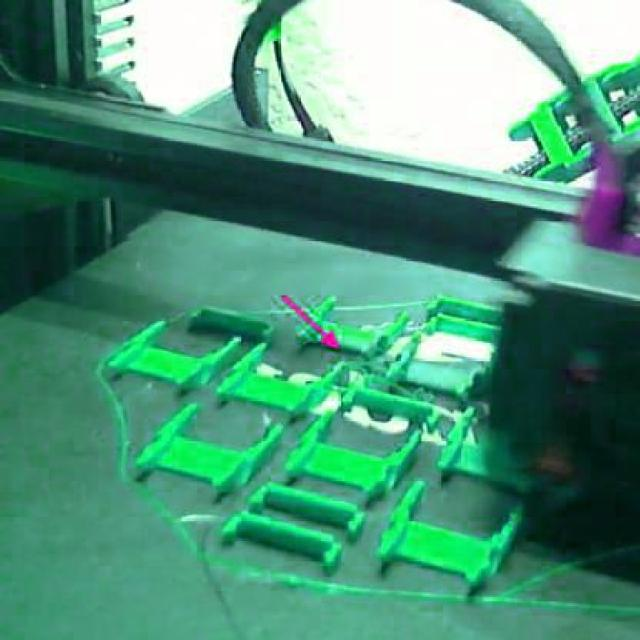Spaghetti: (349, 345, 438, 403)
